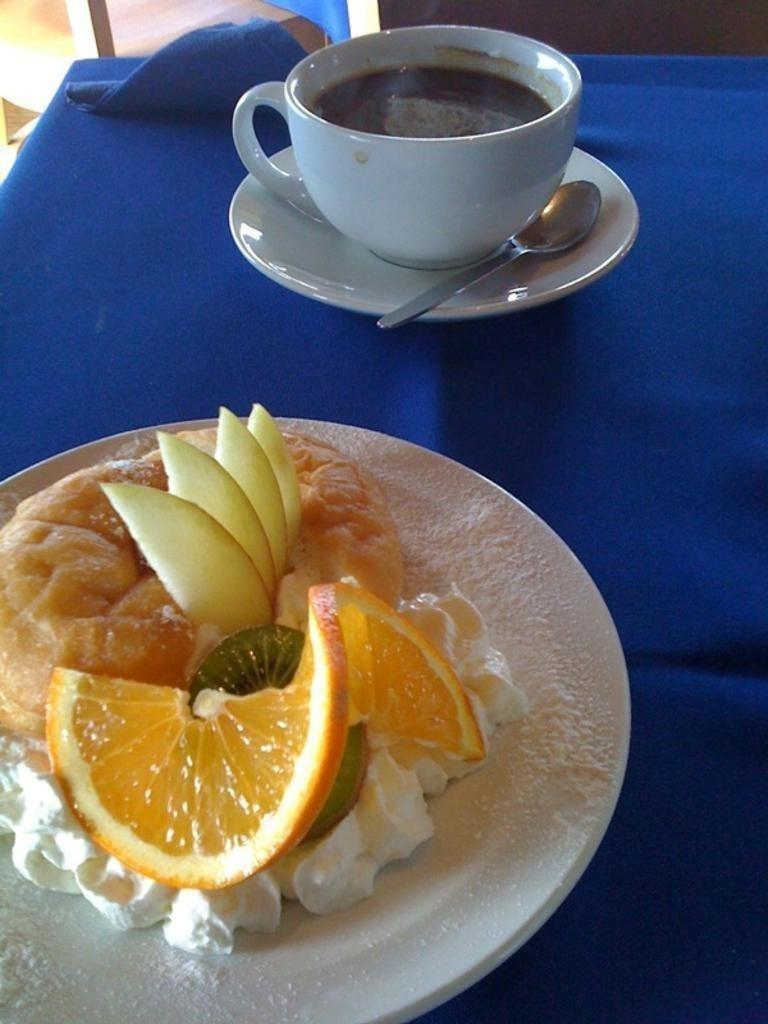cup-handle: (231, 24, 583, 274)
